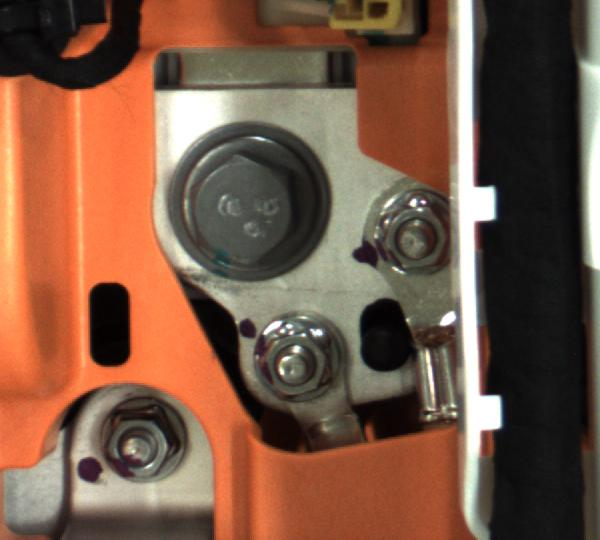nut_b: (158, 117, 323, 281)
screw_s: (241, 307, 341, 414), (94, 396, 198, 488), (371, 190, 461, 289)
